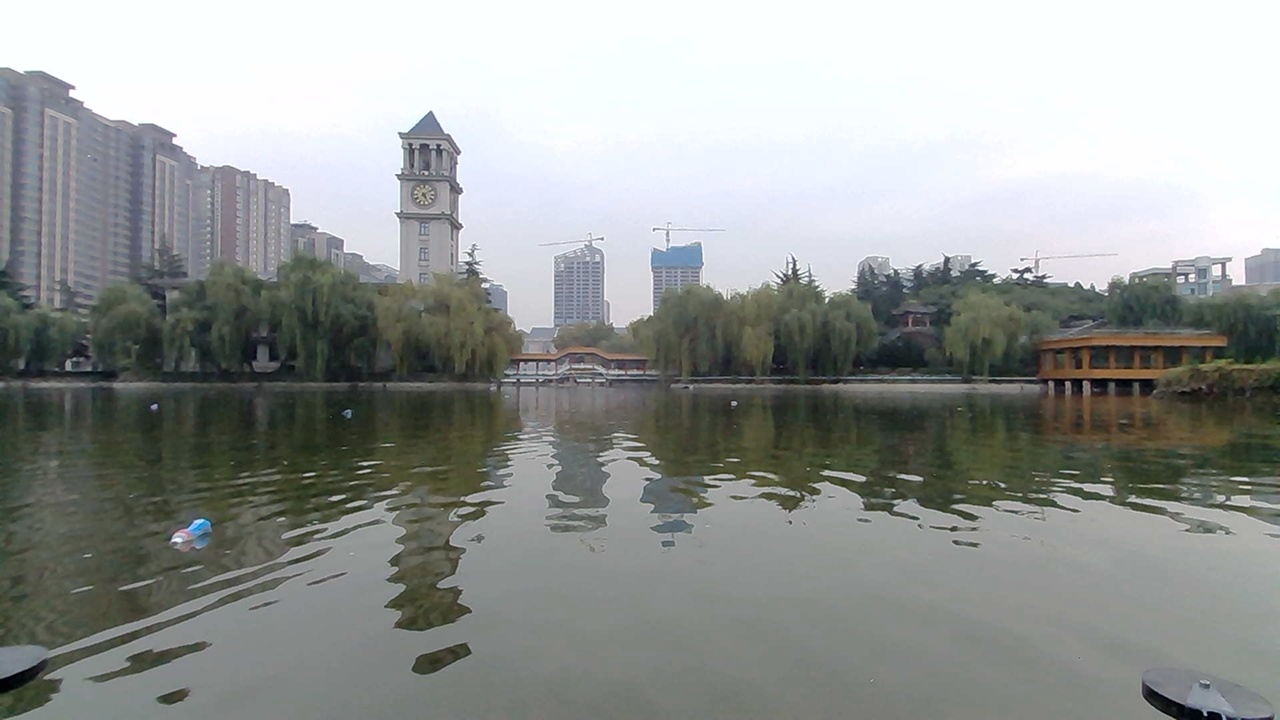bottle: (155, 512, 240, 552), (137, 395, 173, 419), (335, 399, 369, 421), (713, 394, 749, 413)
